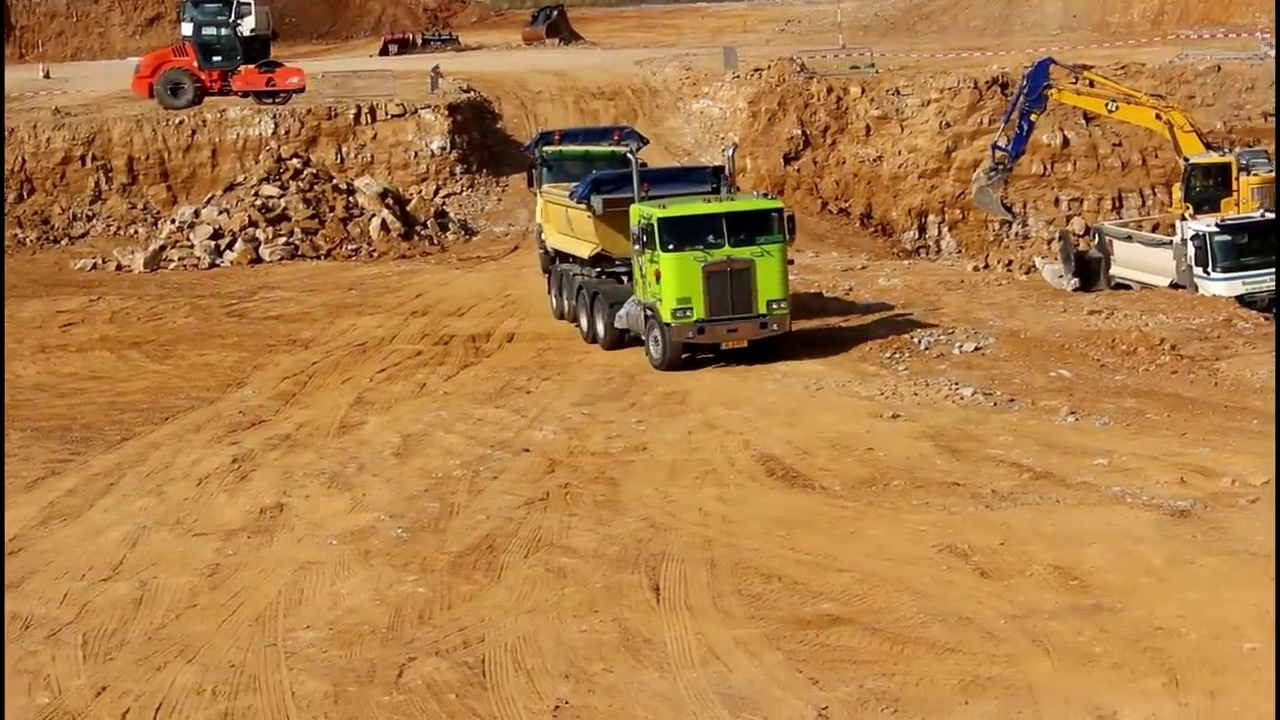compactor: (128, 17, 309, 113)
excavator: (957, 48, 1280, 269), (175, 1, 280, 72)
truck: (536, 143, 802, 374), (1094, 203, 1280, 324), (525, 117, 657, 275)
